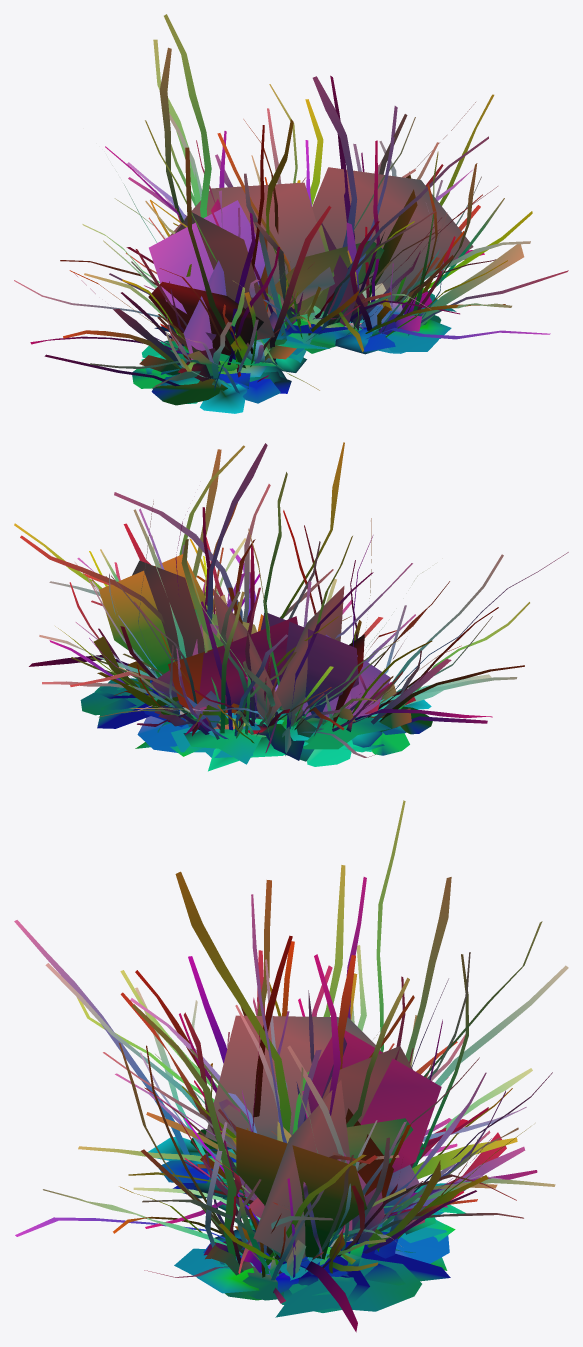
The model's file is Wild_Grass_vdilbaiia_Mid_vdilbaiia_VarH_LOD2.fbx.
3 views of the same model, one above another, from view 1: azimuth 30°, elevation 25°; view 2: azimuth 150°, elevation 25°; view 3: azimuth 270°, elevation 25° (orthographic). The views are drawn at different scales.
Visible parts, largest first — view 1: _4y2v_VarH_LOD3; view 2: _4y2v_VarH_LOD3; view 3: _4y2v_VarH_LOD3.
Boxes of the visible parts, left/top/right/bottom form: _4y2v_VarH_LOD3: left=14, top=14, right=568, bottom=413; _4y2v_VarH_LOD3: left=14, top=442, right=568, bottom=771; _4y2v_VarH_LOD3: left=14, top=800, right=568, bottom=1332.
Size of the model in its own units: 151 by 94.28 by 123.
